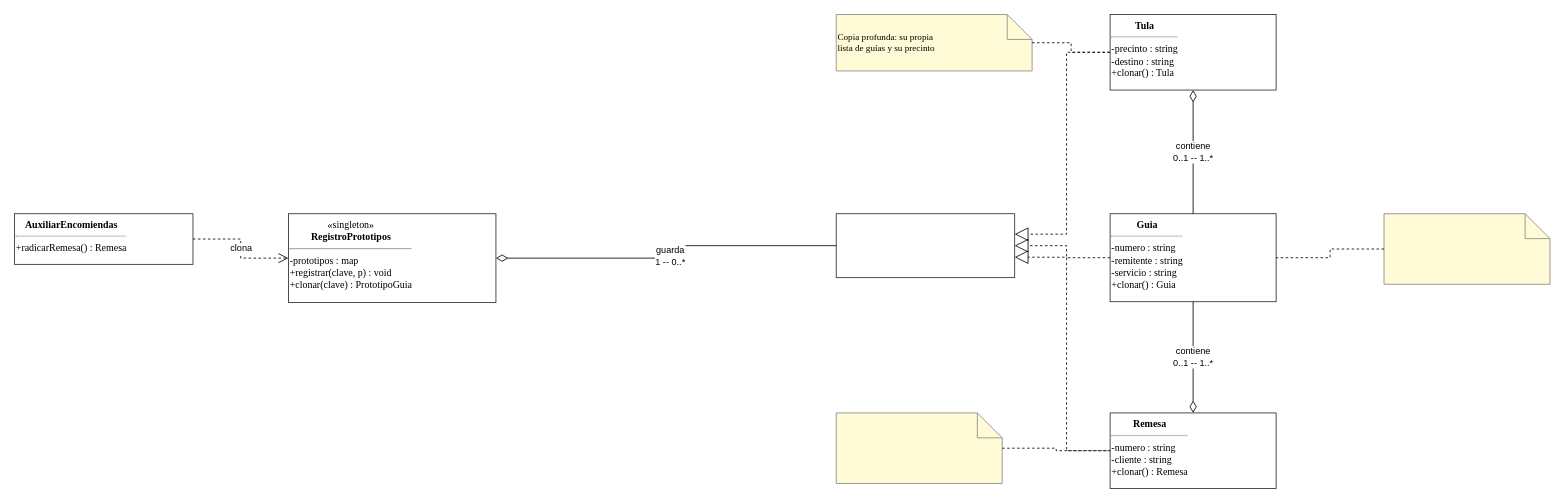
Image size: 1565x503. Some labels were removed from this diagram. Each missing label, with the centre of its shape:
"Copia profunda: su propio lote de guías del cliente" belongs at pixel 918 447.
"Copia superficial: número, remitente y servicio son valores" belongs at pixel 1466 248.
"«interface» PrototipoGuia +clonar() : PrototipoGuia" belongs at pixel 925 245.
